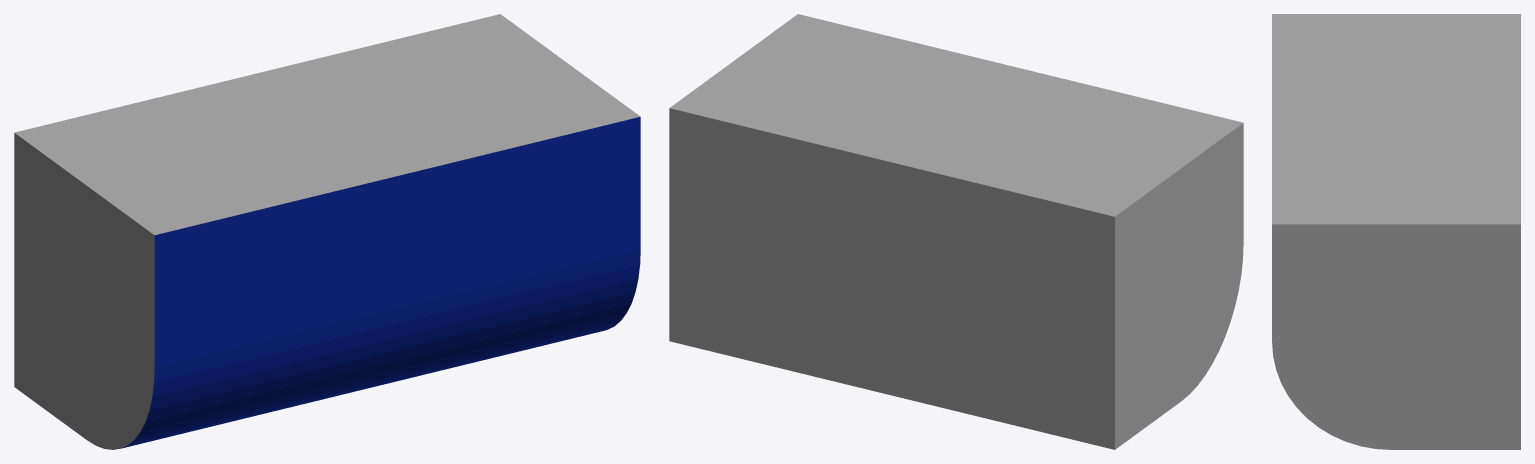
The model's file is case_48.fbx.
3 views of the same model, side by side, from view 1: azimuth 30°, elevation 25°; view 2: azimuth 150°, elevation 25°; view 3: azimuth 270°, elevation 25° (orthographic). The views are drawn at different scales.
Visible parts, largest first — view 1: case_48; view 2: case_48; view 3: case_48.
Boxes of the visible parts, x1,y1,x2,y2 form: case_48: (14, 14, 640, 449); case_48: (669, 14, 1243, 449); case_48: (1272, 14, 1520, 449).
Size of the model in its own units: 1 by 0.5 by 0.5.
